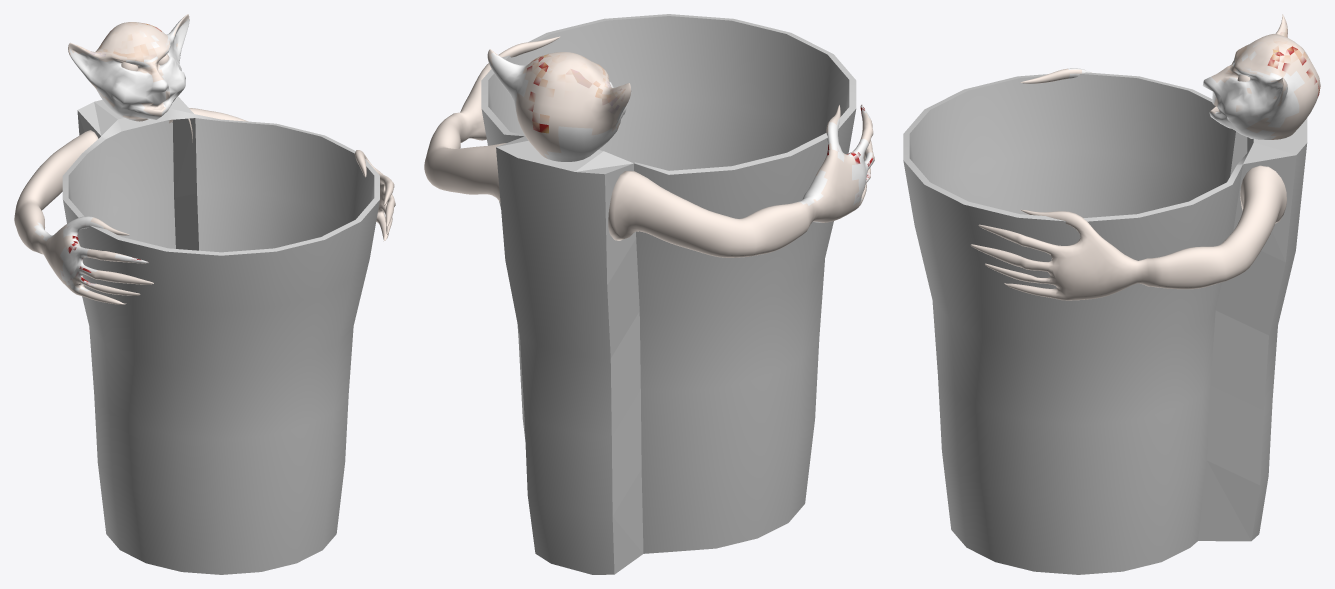
Rendered from Bin_lowpoly.fbx.
The picture shows the model from 3 angles, left to right: view 1: azimuth 30°, elevation 25°; view 2: azimuth 150°, elevation 25°; view 3: azimuth 270°, elevation 25°; orthographic projection. The views are drawn at different scales.
Visible parts, largest first — view 1: Bin_low, Dustbin_Clown_low; view 2: Bin_low, Dustbin_Clown_low; view 3: Bin_low, Dustbin_Clown_low.
Part boxes in pixels (box(x1,y1,x2,y2)): Bin_low: box(62, 96, 379, 574); Dustbin_Clown_low: box(14, 14, 395, 304); Bin_low: box(481, 14, 856, 574); Dustbin_Clown_low: box(424, 36, 874, 257); Bin_low: box(903, 72, 1307, 574); Dustbin_Clown_low: box(970, 14, 1320, 300).
Size of the model in its own units: 42.85 by 56.33 by 43.85.
